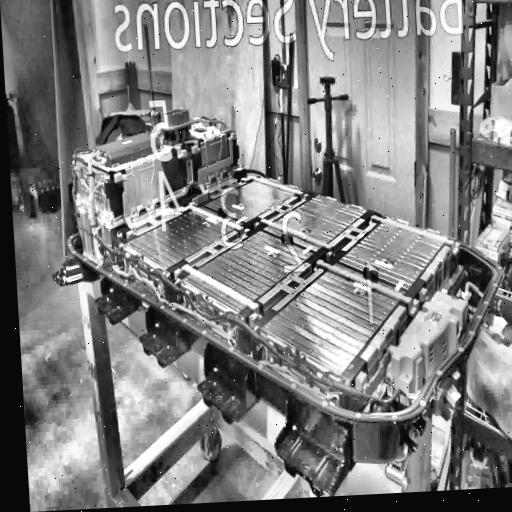battery_module: (262, 262, 405, 376), (182, 230, 313, 314), (338, 218, 448, 291), (125, 206, 243, 270), (262, 194, 367, 252), (204, 177, 302, 222)
busbar: (313, 258, 420, 319), (174, 261, 264, 328), (368, 212, 462, 258), (253, 218, 337, 264), (192, 138, 234, 205), (176, 202, 251, 239), (236, 173, 312, 202), (112, 171, 138, 242), (170, 137, 202, 163)
high_volt_cable: (80, 150, 339, 402)
low_volt_cable: (71, 146, 416, 409)
